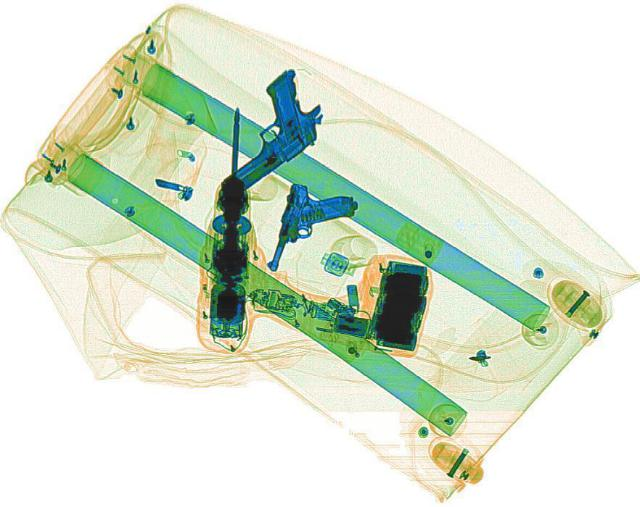Gun: (173, 65, 353, 193), (264, 178, 362, 279)
